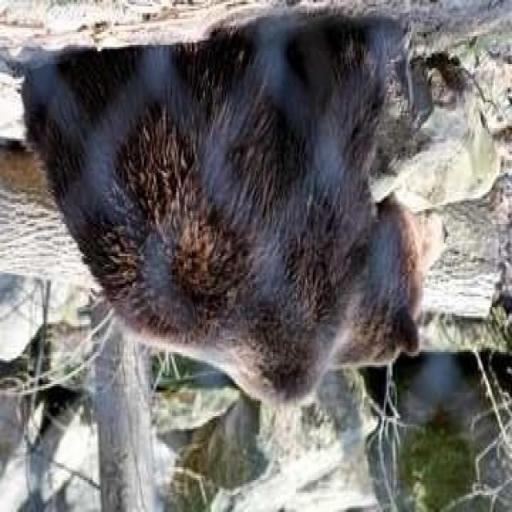Bear: (18, 4, 433, 410)
